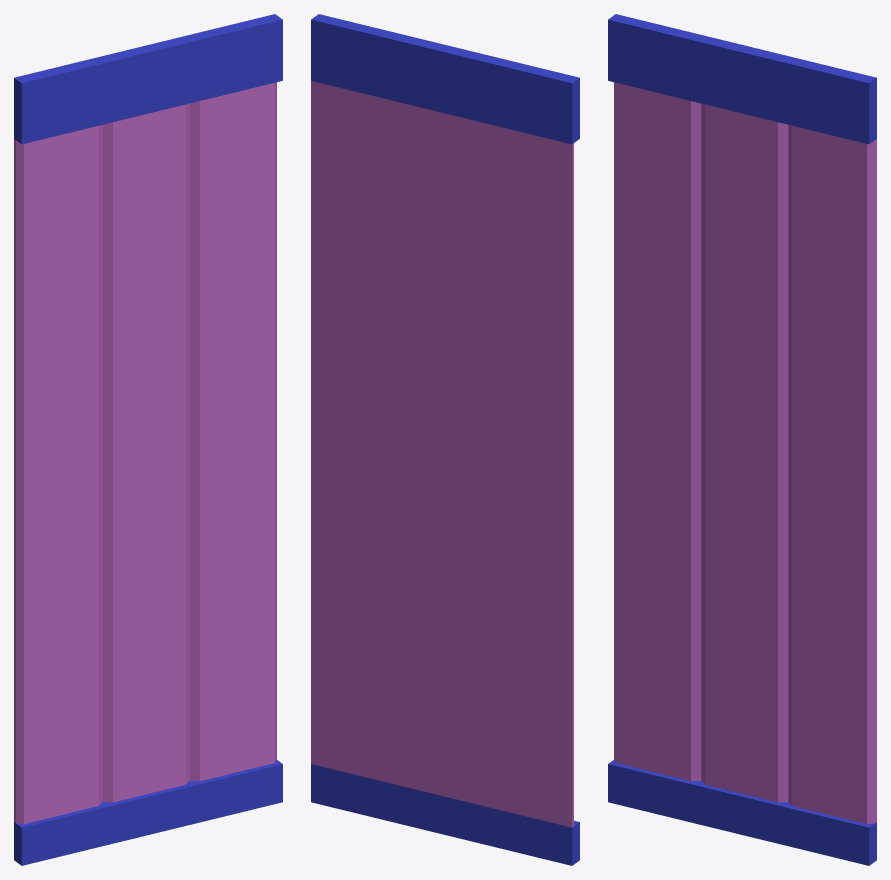
The model's file is Sciana.fbx.
3 renders of one model, left to right at view 1: azimuth 30°, elevation 25°; view 2: azimuth 150°, elevation 25°; view 3: azimuth 330°, elevation 25°, orthographic.
Parts seen in each view (by area): view 1: Sciana; view 2: Sciana; view 3: Sciana.
Boxes of the visible parts, left/top/right/bottom form: Sciana: left=14, top=14, right=282, bottom=865; Sciana: left=311, top=14, right=579, bottom=865; Sciana: left=608, top=14, right=876, bottom=865.
Size of the model in its own units: 100 by 5.09 by 286.
